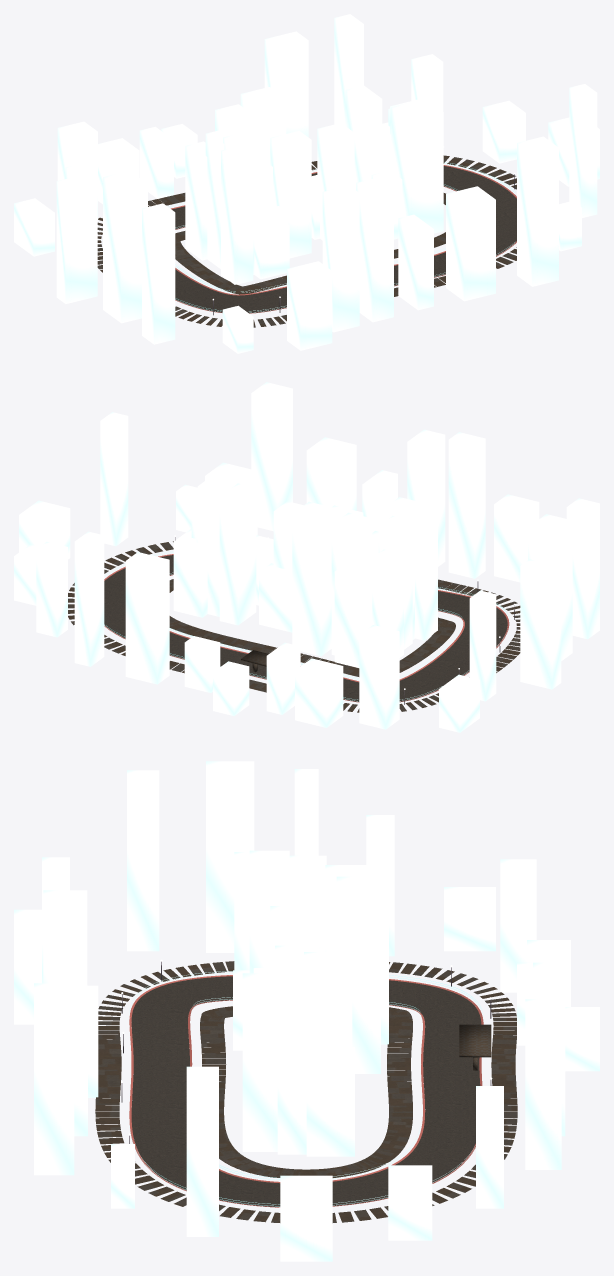
File: stage1_city.glb
The picture shows the model from 3 angles, top to bottom: view 1: azimuth 30°, elevation 25°; view 2: azimuth 150°, elevation 25°; view 3: azimuth 270°, elevation 25°; orthographic projection. The views are drawn at different scales.
Parts seen in each view (by area): view 1: Visual_Buildings_105_1, Visual_Buildings_65_1, Visual_Buildings_105_-1, Visual_Buildings_100_1, Visual_Track, Visual_Buildings_60_1, Visual_Buildings_90_1, Visual_Buildings_85_1, Visual_Buildings_70_1, Visual_Buildings_80_-1, Visual_Buildings_90_-1, Visual_Sidewalks (+28 smaller); view 2: Visual_Track, Visual_Buildings_30_-1, Visual_Buildings_20_1, Visual_Buildings_85_1, Visual_Buildings_105_1, Visual_Sidewalks, Visual_Buildings_60_1, Visual_Buildings_20_-1, Visual_Buildings_45_1, Visual_Buildings_15_1, Visual_Buildings_70_1, Visual_Buildings_115_1 (+31 smaller); view 3: Visual_Track, Visual_Sidewalks, Visual_Buildings_105_1, Visual_Buildings_65_1, Visual_Buildings_105_-1, Visual_Buildings_30_-1, Visual_Buildings_15_1, Visual_Buildings_70_1, Visual_Buildings_115_1, Visual_Buildings_10_-1, Visual_Buildings_0_1, Visual_Buildings_90_1 (+31 smaller).
Boxes of the visible parts, x1,y1,x2,y2 form: Visual_Buildings_105_1: [517, 136, 558, 286]; Visual_Buildings_65_1: [103, 171, 147, 323]; Visual_Buildings_105_-1: [391, 99, 443, 233]; Visual_Buildings_100_1: [446, 186, 495, 301]; Visual_Track: [172, 166, 516, 313]; Visual_Buildings_60_1: [56, 173, 97, 303]; Visual_Buildings_90_1: [356, 178, 393, 322]; Visual_Buildings_85_1: [322, 185, 359, 332]; Visual_Buildings_70_1: [142, 203, 175, 344]; Visual_Buildings_80_-1: [221, 148, 253, 284]; Visual_Buildings_90_-1: [270, 131, 311, 258]; Visual_Sidewalks: [97, 155, 516, 327]; Visual_Track: [104, 555, 507, 701]; Visual_Buildings_30_-1: [292, 501, 337, 656]; Visual_Buildings_20_1: [125, 552, 169, 684]; Visual_Buildings_85_1: [448, 432, 485, 578]; Visual_Buildings_105_1: [251, 382, 292, 531]; Visual_Sidewalks: [68, 541, 520, 712]; Visual_Buildings_60_1: [520, 559, 561, 689]; Visual_Buildings_20_-1: [219, 483, 256, 625]; Visual_Buildings_45_1: [359, 625, 399, 729]; Visual_Buildings_15_1: [74, 531, 104, 666]; Visual_Buildings_70_1: [566, 498, 599, 639]; Visual_Buildings_115_1: [100, 412, 128, 546]; Visual_Track: [131, 976, 481, 1206]; Visual_Sidewalks: [95, 961, 517, 1222]; Visual_Buildings_105_1: [34, 983, 74, 1175]; Visual_Buildings_65_1: [206, 761, 254, 952]; Visual_Buildings_105_-1: [242, 973, 290, 1151]; Visual_Buildings_30_-1: [336, 876, 380, 1073]; Visual_Buildings_15_1: [525, 999, 561, 1169]; Visual_Buildings_70_1: [127, 770, 159, 951]; Visual_Buildings_115_1: [186, 1066, 218, 1236]; Visual_Buildings_10_-1: [306, 1047, 354, 1156]; Visual_Buildings_0_1: [280, 1175, 332, 1261]; Visual_Buildings_90_1: [43, 890, 87, 985].
Size of what is drawn, in the model's own units: 200 by 50.12 by 146.
Materials: 6 (6 with a texture image).
